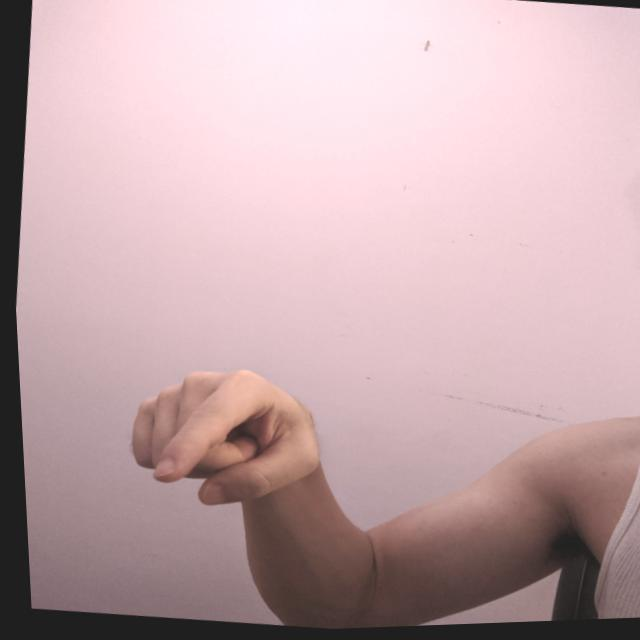Z: (109, 352, 334, 525)
